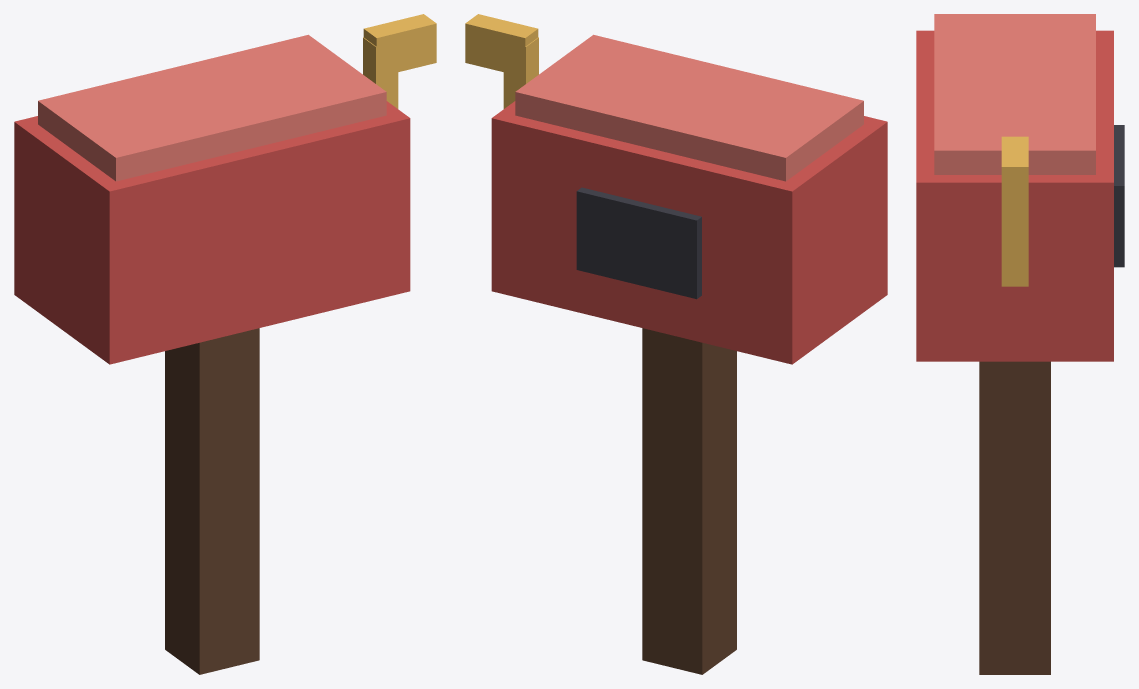
File: deco_mini_mailbox.obj
The picture shows the model from 3 angles, left to right: view 1: azimuth 30°, elevation 25°; view 2: azimuth 150°, elevation 25°; view 3: azimuth 270°, elevation 25°; orthographic projection. The views are drawn at different scales.
Parts seen in each view (by area): view 1: deco_mini_mailbox; view 2: deco_mini_mailbox; view 3: deco_mini_mailbox.
Part boxes in pixels (x1,y1,x2,y2): deco_mini_mailbox: (14, 14, 436, 674); deco_mini_mailbox: (465, 14, 887, 674); deco_mini_mailbox: (916, 14, 1124, 674).
Size of the model in its own units: 0.0245 by 0.0371 by 0.0116.
1 material, 1 textured.
